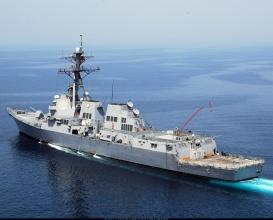warship: (5, 33, 267, 186)
